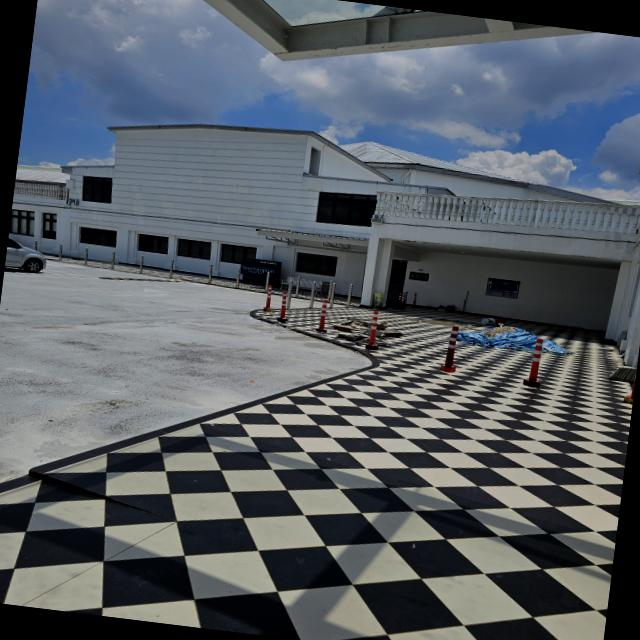footpath: (209, 356, 632, 640)
obstacle: (517, 333, 554, 390), (434, 320, 464, 380), (362, 306, 388, 356)
